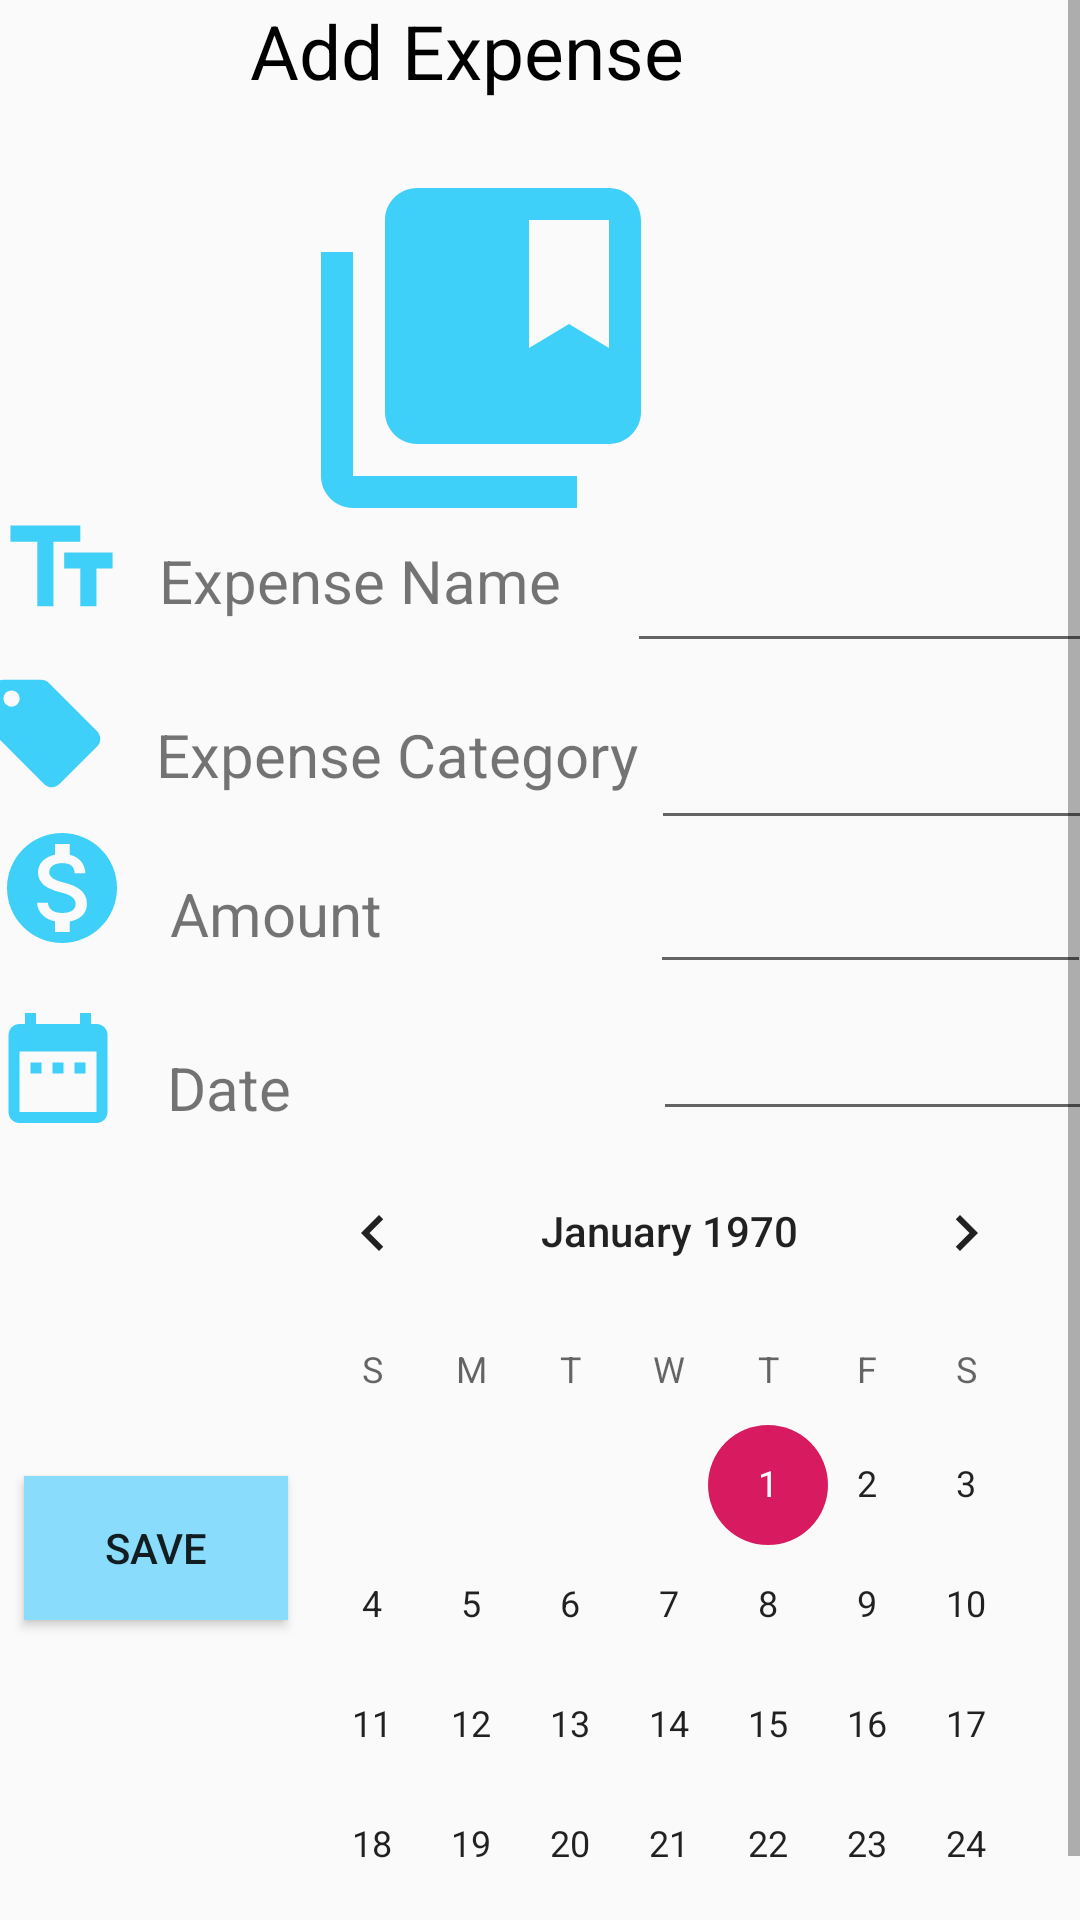

Icon click points for this 1080×1920 phone screenshot, format [x,y]:
collections bookmark: [481,348]
monetization on: [62,888]
text fields: [61,566]
